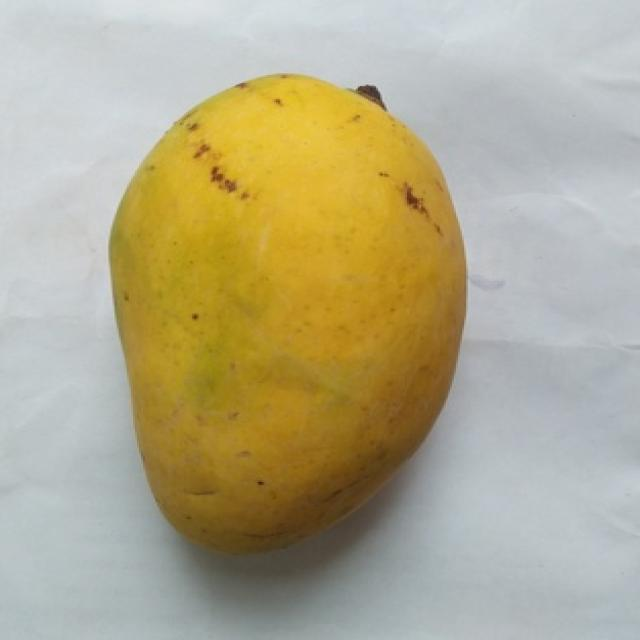Mango: (112, 73, 464, 551)
